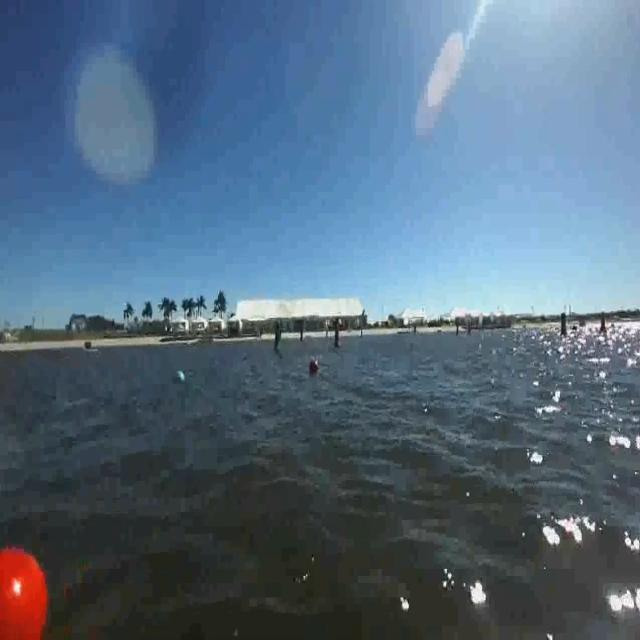green-buoy: (172, 372, 186, 385)
green-column-buoy: (274, 323, 284, 354)
red-buoy: (0, 538, 52, 639), (306, 357, 322, 379)
